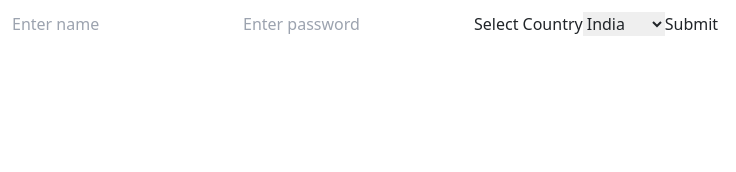
Test case: Test FormUserEvent › render submited form message
Type "Doina" into the field with placeholder "Enter name".
click(128, 24); type("Doina")  # box x1=12 y1=12 x2=243 y2=36
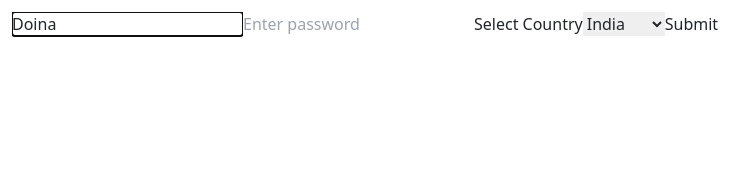
Type "123" into the field with placeholder "Enter password".
click(358, 24); type("123")  # box x1=243 y1=12 x2=474 y2=36
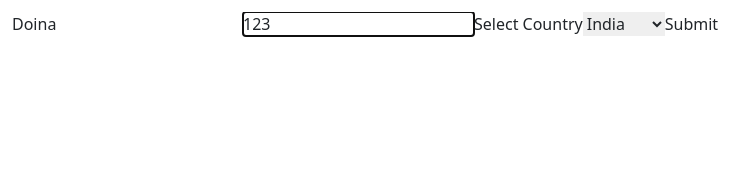
Select "India" in the dropdown labelled "Select Country" at point(624, 24), box x1=583 y1=12 x2=665 y2=36
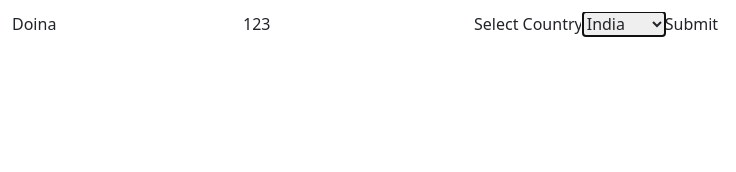
Click the button "Submit".
click(691, 24)  # box x1=665 y1=12 x2=718 y2=36
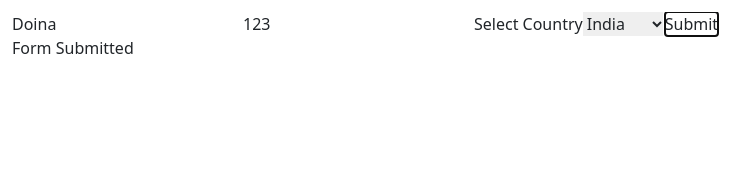
Expected: the text "Form Submitted" is shown, x1=12 y1=37 x2=134 y2=59
